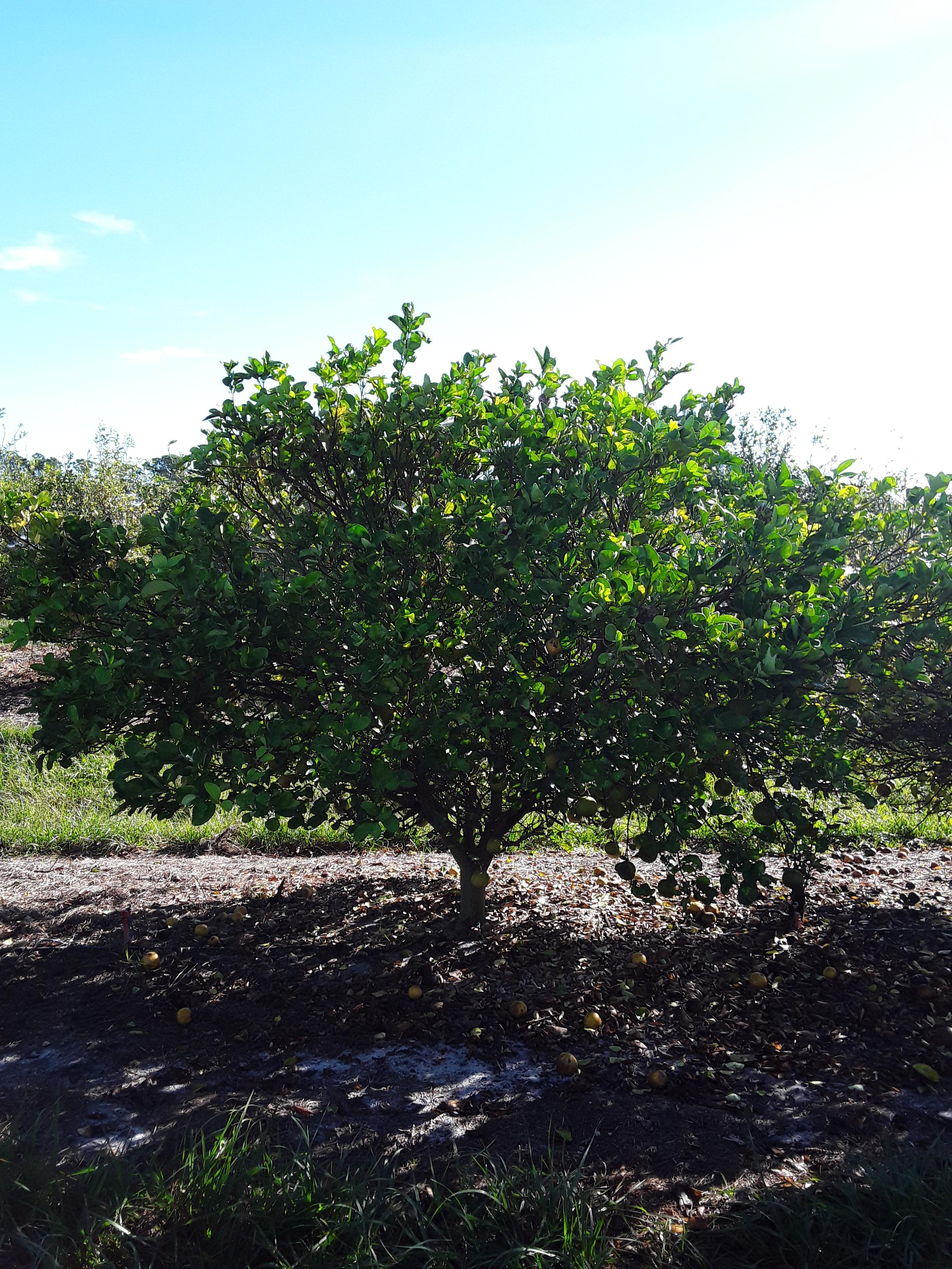fruit_on_ground: (751, 798, 780, 827), (837, 674, 863, 699), (538, 750, 563, 775), (574, 795, 599, 818), (780, 867, 806, 889), (486, 771, 510, 794), (609, 781, 632, 803), (470, 868, 491, 889), (657, 878, 677, 899), (616, 861, 637, 881), (378, 702, 398, 722), (713, 777, 733, 797), (450, 638, 470, 658), (484, 836, 505, 855), (565, 805, 585, 824), (544, 637, 564, 656), (639, 844, 658, 864), (607, 800, 627, 819), (631, 833, 649, 850), (607, 842, 624, 859), (876, 782, 893, 798), (604, 840, 621, 856), (883, 779, 897, 792)
fruit_on_tree: (553, 1049, 580, 1078), (645, 1066, 672, 1092), (138, 948, 162, 972), (172, 1003, 194, 1029), (746, 968, 770, 991), (506, 997, 529, 1020), (581, 1008, 604, 1031), (628, 948, 649, 968), (406, 982, 424, 1001), (699, 909, 718, 926), (687, 898, 706, 915), (192, 921, 209, 939), (299, 881, 318, 895), (822, 965, 838, 981), (296, 883, 313, 898), (164, 912, 180, 927), (703, 902, 720, 916), (906, 890, 923, 904), (592, 864, 607, 877), (229, 910, 244, 922), (747, 916, 762, 928), (233, 905, 248, 915), (447, 865, 460, 875), (852, 854, 864, 864), (888, 866, 900, 876), (898, 846, 911, 855), (866, 867, 878, 876), (881, 846, 893, 855), (866, 847, 878, 856), (851, 869, 862, 878), (896, 851, 907, 860), (843, 854, 854, 862), (888, 867, 899, 875), (842, 866, 853, 874), (929, 860, 939, 868)
